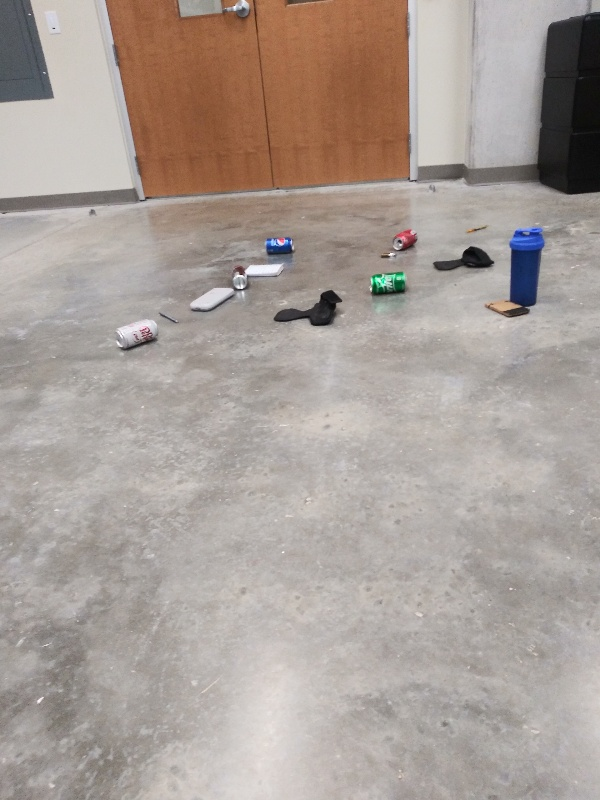can: (113, 317, 162, 353), (366, 271, 410, 301), (260, 235, 299, 257), (391, 226, 419, 253), (229, 265, 250, 295)
